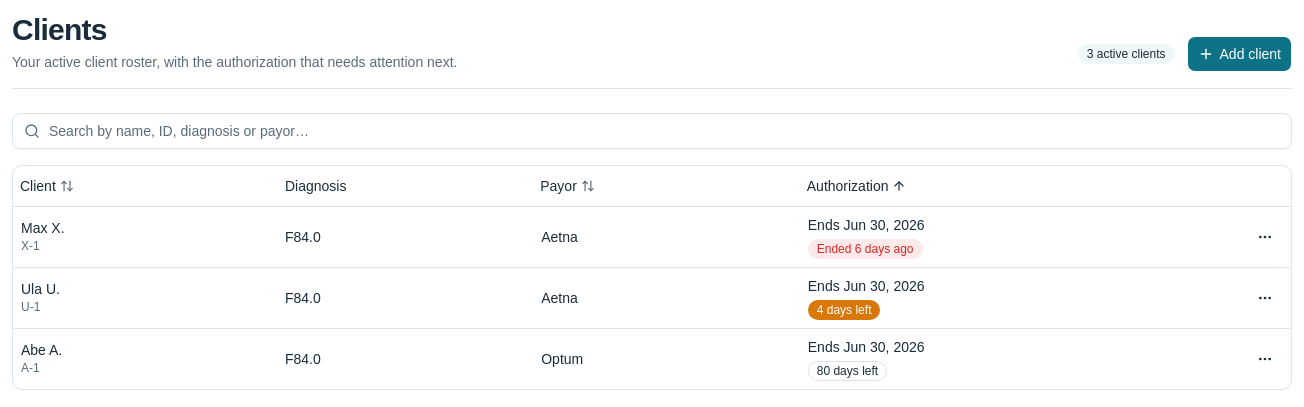
it: Clients page › says so when nothing matches, and keeps the search box
Expected: the text "3 active clients" is shown, [1078,44,1174,64]
Type "zzz" into the field named "Search clients" at (652,131), box [12,113,1292,149]
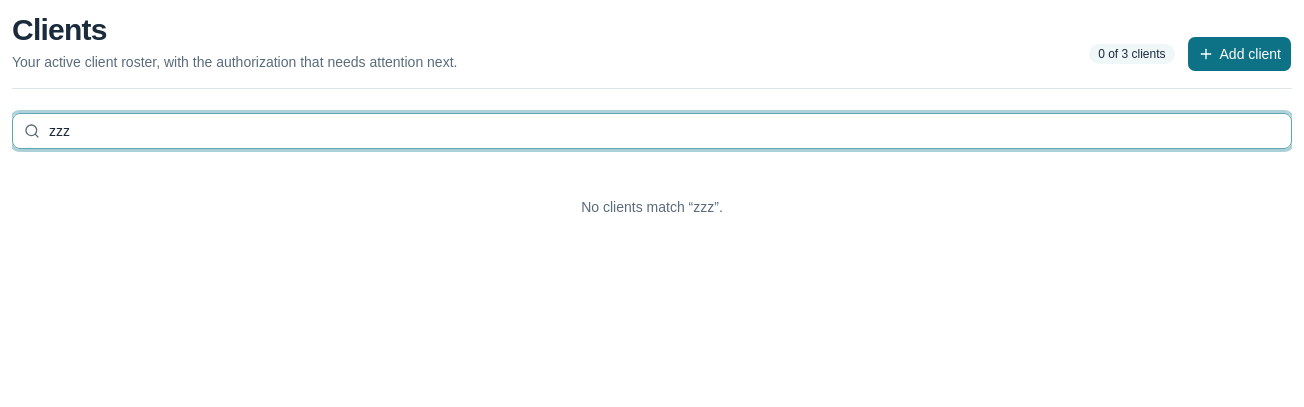
Result: the text "No clients match “zzz”." is shown at [581,199,723,215]
Result: the table is gone
